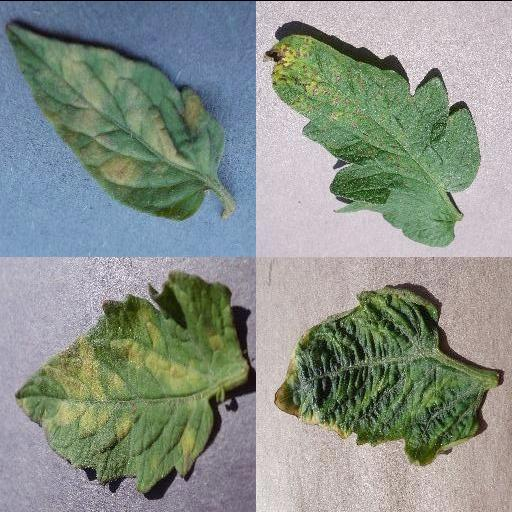Leaf Mold: (15, 270, 249, 492), (5, 22, 229, 220)
Septoria: (263, 35, 483, 247)
Yellow Leaf Curl Virus: (271, 286, 485, 468)
